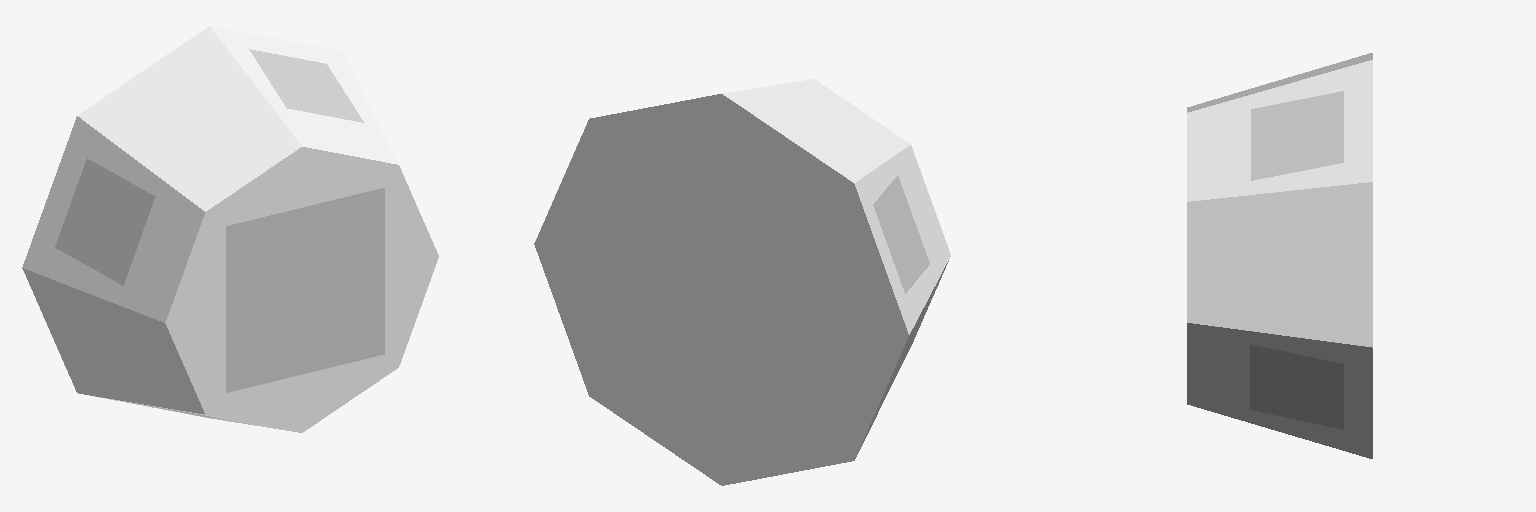
Rendered from chess.obj.
The picture shows the model from 3 angles: view 1: azimuth 30°, elevation 25°; view 2: azimuth 150°, elevation 25°; view 3: azimuth 270°, elevation 25°; orthographic projection.
Visible parts, largest first — view 1: Mesh1 Model; view 2: Mesh1 Model; view 3: Mesh1 Model.
Part boxes in pixels (left/top/right/bottom): Mesh1 Model: left=22, top=26, right=438, bottom=432; Mesh1 Model: left=534, top=79, right=950, bottom=485; Mesh1 Model: left=1187, top=53, right=1372, bottom=458.
Bounding box in the file's own units: 4.27 × 4.27 × 1.83.